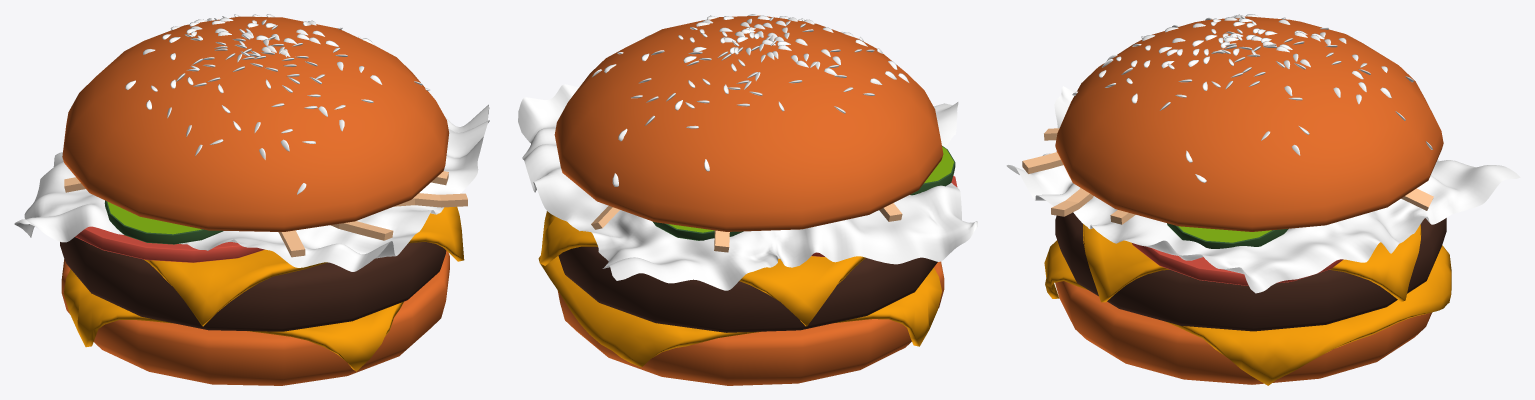
The model's file is burger.glb.
3 renders of one model, left to right at view 1: azimuth 30°, elevation 25°; view 2: azimuth 150°, elevation 25°; view 3: azimuth 270°, elevation 25°, orthographic.
Parts seen in each view (by area): view 1: bun_top, burger, bun_bottom, lettuce, cheez, cheez.001, seeds, tomato 1, onion 7, pickle 5; view 2: bun_top, lettuce, burger, bun_bottom, cheez.001, cheez, seeds, onion 7, pickle 5, pickle 1; view 3: bun_top, lettuce, burger, bun_bottom, cheez.001, cheez, seeds, onion 7, tomato 3, pickle 2.
Boxes of the visible parts, bbox=[...] form: bun_top: bbox=[62, 16, 449, 231]; burger: bbox=[60, 237, 446, 331]; bun_bottom: bbox=[61, 251, 449, 385]; lettuce: bbox=[14, 104, 489, 271]; cheez: bbox=[144, 206, 464, 326]; cheez.001: bbox=[63, 269, 403, 371]; seeds: bbox=[125, 14, 429, 194]; tomato 1: bbox=[75, 226, 264, 262]; onion 7: bbox=[64, 171, 467, 257]; pickle 5: bbox=[104, 200, 223, 244]; bun_top: bbox=[554, 15, 943, 231]; lettuce: bbox=[518, 84, 977, 290]; burger: bbox=[558, 246, 937, 332]; bun_bottom: bbox=[557, 261, 944, 385]; cheez.001: bbox=[538, 256, 941, 367]; cheez: bbox=[539, 211, 865, 326]; seeds: bbox=[592, 14, 909, 186]; onion 7: bbox=[591, 203, 902, 252]; pickle 5: bbox=[910, 146, 955, 195]; pickle 1: bbox=[652, 221, 743, 240]; bun_top: bbox=[1055, 16, 1443, 231]; lettuce: bbox=[1006, 86, 1520, 293]; burger: bbox=[1055, 212, 1446, 331]; bun_bottom: bbox=[1055, 281, 1432, 384]; cheez.001: bbox=[1044, 240, 1451, 385]; cheez: bbox=[1083, 224, 1421, 302]; seeds: bbox=[1072, 14, 1432, 182]; onion 7: bbox=[1022, 128, 1433, 224]; tomato 3: bbox=[1132, 243, 1343, 285]; pickle 2: bbox=[1167, 223, 1288, 248].
Size of the model in its own units: 0.828 by 0.4709 by 0.801.
